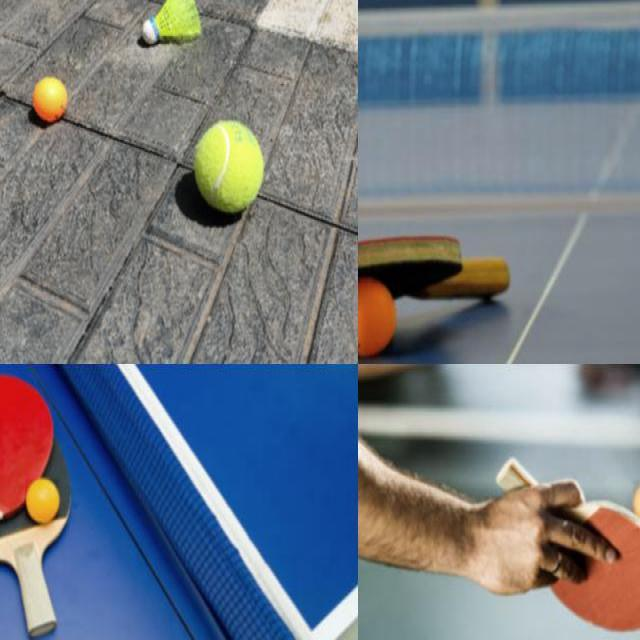ping-pong-ball: (358, 280, 395, 356), (33, 76, 66, 121), (25, 479, 59, 521)
